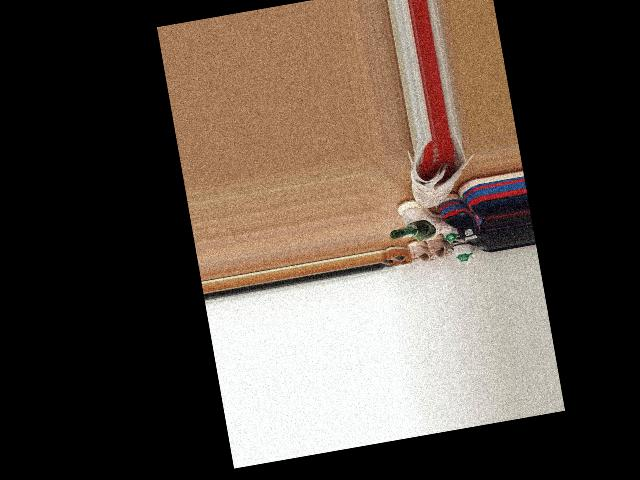beer: (388, 218, 436, 242)
